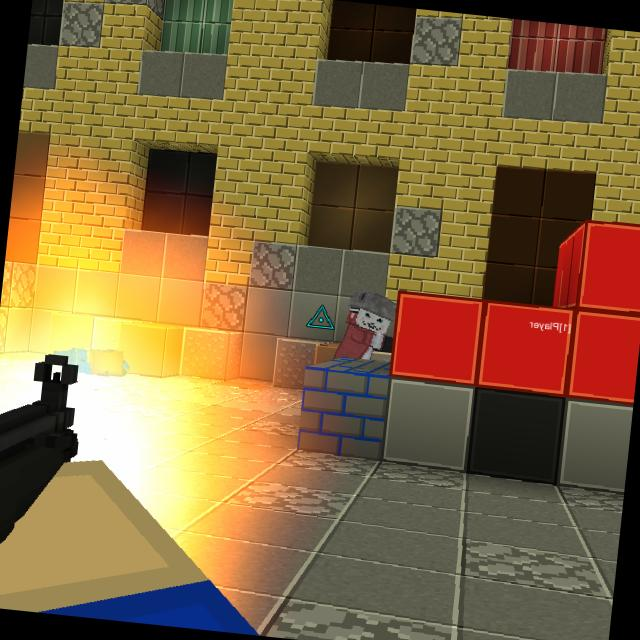enemy: (332, 286, 398, 364)
